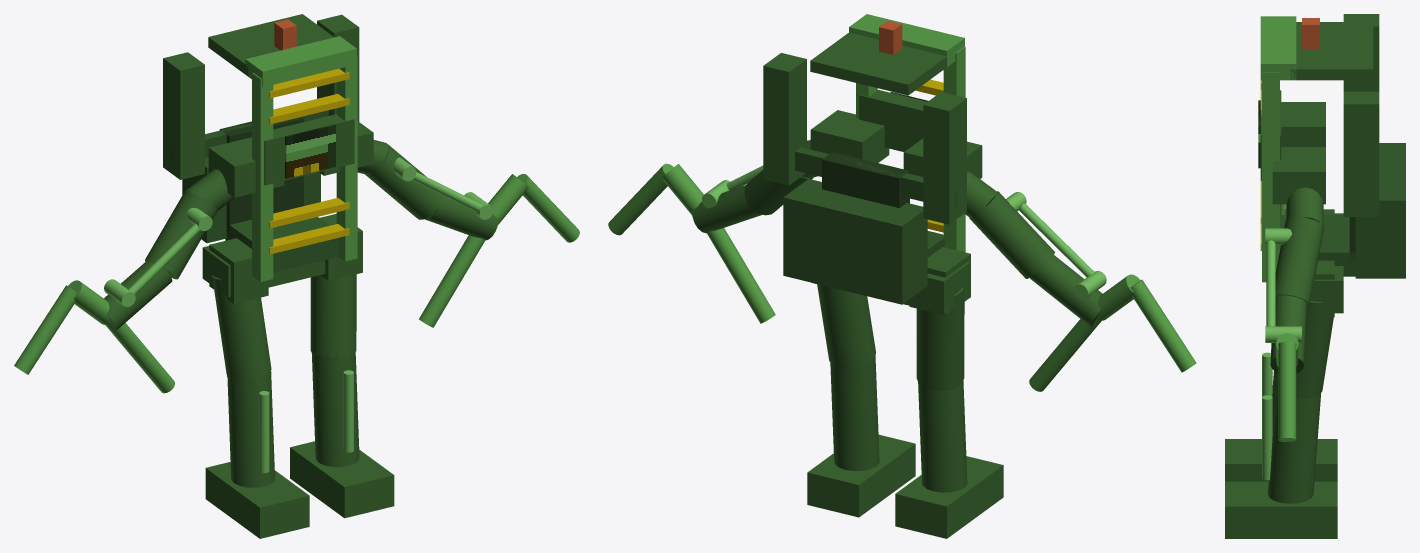
The model's file is CMU3DInheritedStructureRMCMechPowerLoaderGreenCloud.glb.
The picture shows the model from 3 angles, left to right: view 1: azimuth 30°, elevation 25°; view 2: azimuth 150°, elevation 25°; view 3: azimuth 270°, elevation 25°; orthographic projection. The views are drawn at different scales.
Visible parts, largest first — view 1: back equipment vertical -1, loader foot 1, loader foot -1, shin -1, shin 1, thigh -1, cage upright -1, thigh 1, cage header, rear overhead brace, cage upright 1, instrument panel support (+30 smaller); view 2: rear counterweight, back equipment vertical -1, back equipment vertical 1, loader foot -1, loader foot 1, rear overhead brace, shin 1, shin -1, thigh -1, thigh 1, upper arm -1, seat back (+20 smaller); view 3: loader foot 1, rear counterweight, back equipment vertical 1, rear overhead brace, shin 1, upper arm 1, cage upright 1, loader foot -1, shoulder trunnion 1, thigh 1, cage header, shoulder trunnion -1 (+16 smaller).
Part boxes in pixels (x1,y1,x2,y2): back equipment vertical -1: [163, 52, 204, 179]; loader foot 1: [290, 441, 394, 518]; loader foot -1: [205, 462, 309, 538]; shin -1: [227, 368, 274, 487]; shin 1: [311, 352, 359, 466]; thigh -1: [212, 275, 271, 379]; cage upright -1: [252, 72, 273, 281]; thigh 1: [310, 274, 356, 357]; cage header: [245, 36, 356, 87]; rear overhead brace: [208, 14, 333, 76]; cage upright 1: [336, 55, 357, 261]; instrument panel support: [264, 114, 354, 185]; rear counterweight: [783, 179, 927, 304]; back equipment vertical -1: [923, 92, 966, 224]; back equipment vertical 1: [763, 53, 806, 185]; loader foot -1: [895, 456, 1003, 538]; loader foot 1: [807, 434, 915, 517]; rear overhead brace: [810, 32, 946, 95]; shin 1: [830, 356, 879, 470]; shin -1: [918, 381, 967, 492]; thigh -1: [916, 286, 964, 391]; thigh 1: [817, 284, 875, 368]; upper arm -1: [969, 191, 1054, 278]; seat back: [822, 152, 909, 208]; loader foot 1: [1225, 481, 1337, 538]; rear counterweight: [1355, 143, 1405, 278]; back equipment vertical 1: [1343, 91, 1379, 216]; rear overhead brace: [1290, 22, 1373, 80]; shin 1: [1268, 380, 1320, 503]; upper arm 1: [1275, 216, 1324, 306]; cage upright 1: [1262, 72, 1279, 282]; loader foot -1: [1225, 439, 1337, 481]; shoulder trunnion 1: [1272, 147, 1325, 204]; thigh 1: [1276, 301, 1333, 398]; cage header: [1260, 16, 1296, 80]; shoulder trunnion -1: [1281, 102, 1325, 146].
Bounding box in the file's own units: 2.27 × 1.8 × 0.61.
8 materials, 1 textured.
